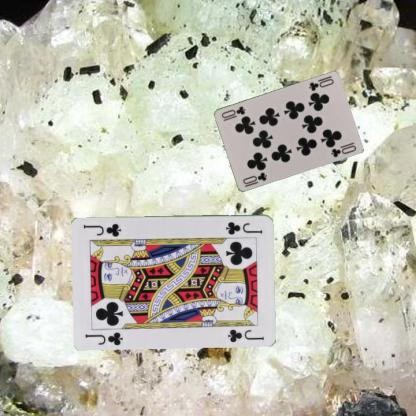10c: (306, 74, 335, 92), (240, 170, 268, 185)
Jc: (82, 329, 124, 346), (224, 219, 264, 236)
